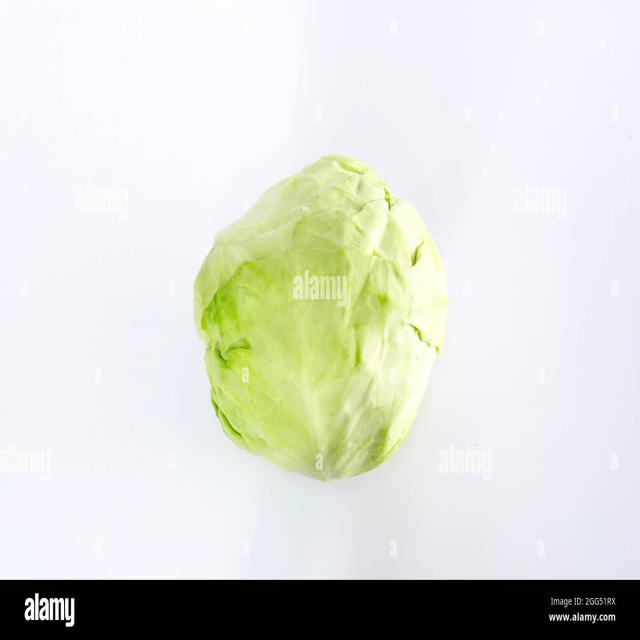cabbage: (192, 152, 446, 484)
